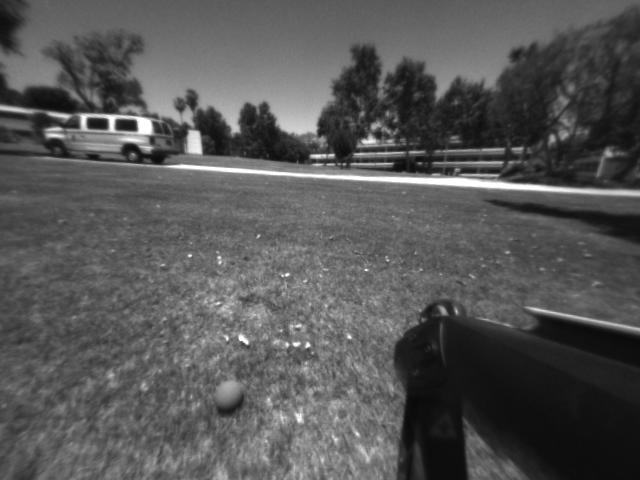dogtoy: (210, 375, 248, 415)
